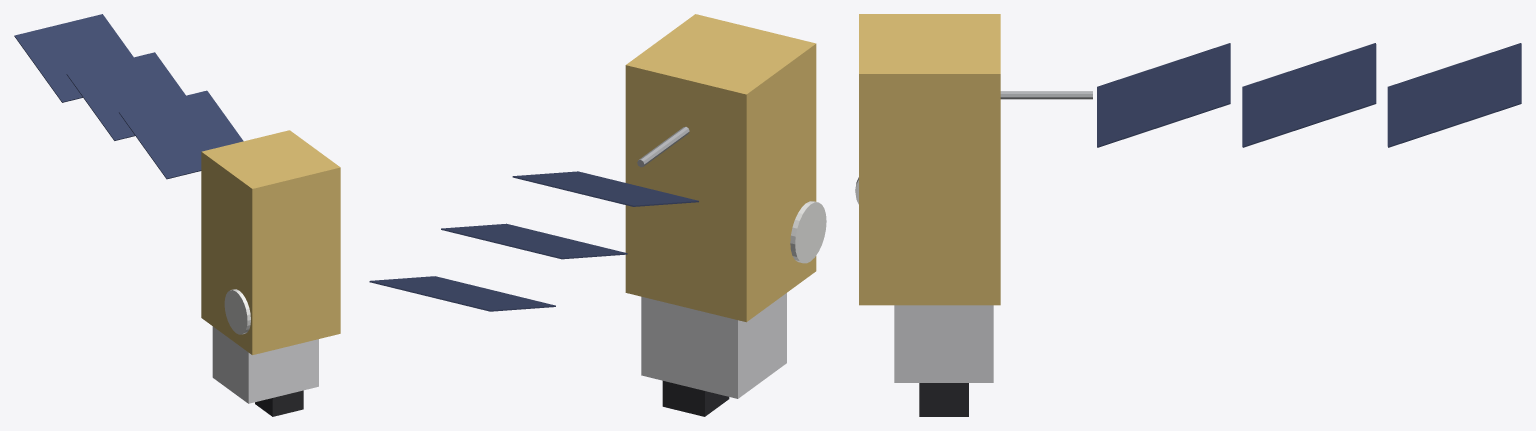
Rendered from eosat.glb.
3 renders of one model, left to right at view 1: azimuth 30°, elevation 25°; view 2: azimuth 150°, elevation 25°; view 3: azimuth 270°, elevation 25°, orthographic. The views are drawn at different scales.
Parts seen in each view (by area): view 1: eosat; view 2: eosat; view 3: eosat.
Part boxes in pixels (box(x1,y1,x2,y2)): eosat: box(14, 14, 340, 416); eosat: box(369, 14, 826, 416); eosat: box(855, 14, 1521, 416).
Bounding box in the file's own units: 0.4557 × 1.17 × 2.
